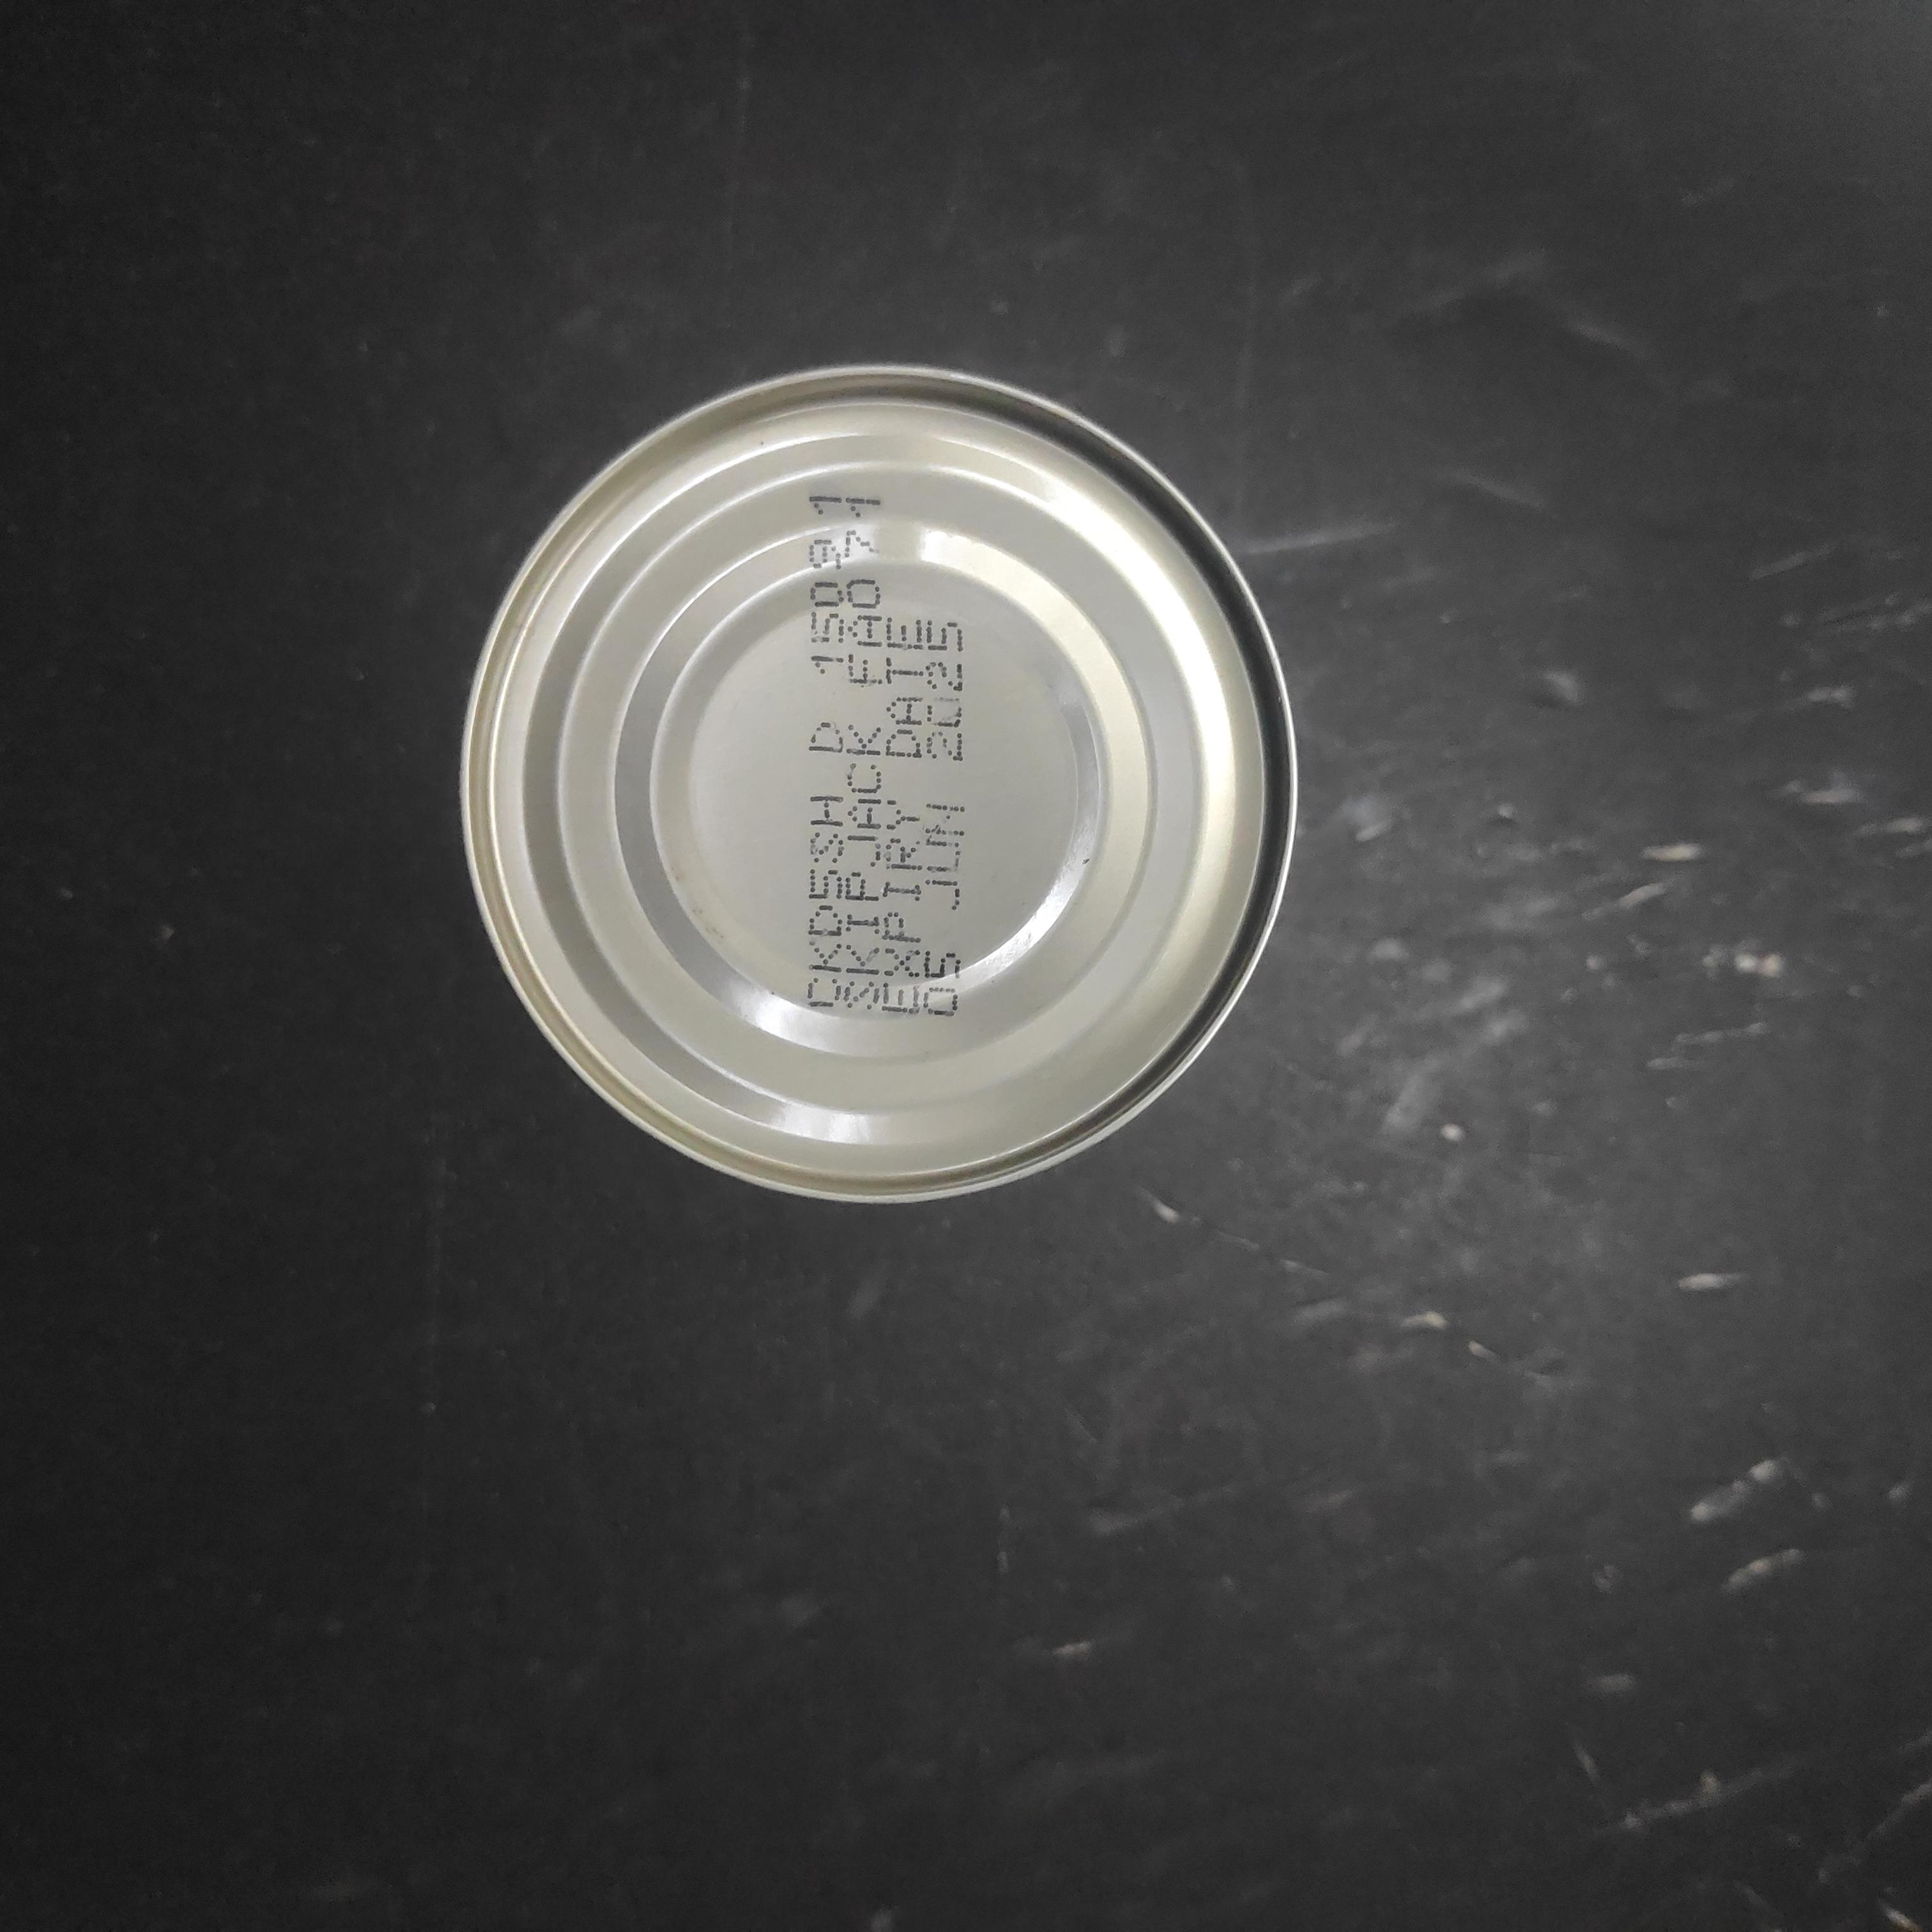No defect: (630, 725, 1479, 1575)
